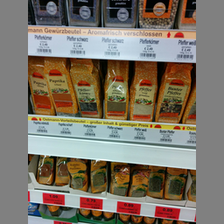spices: (43, 58, 78, 116), (159, 62, 191, 122), (70, 59, 102, 118), (131, 61, 156, 121), (29, 58, 55, 115), (104, 59, 129, 118)
